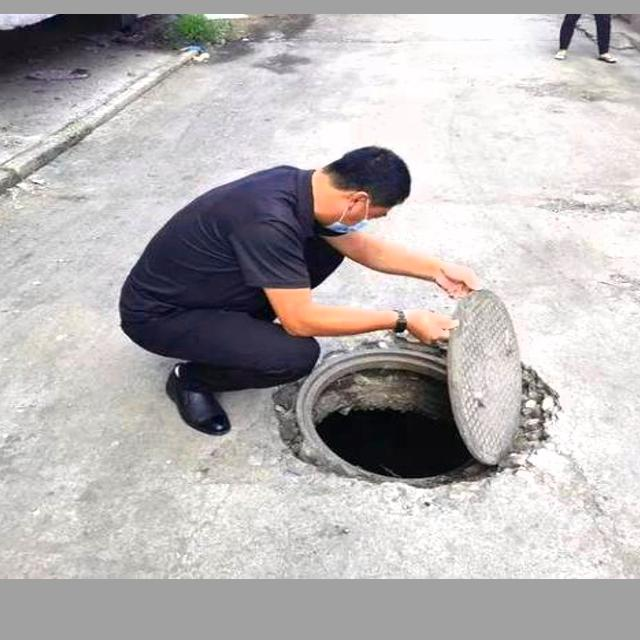circle: (220, 304, 584, 507)
